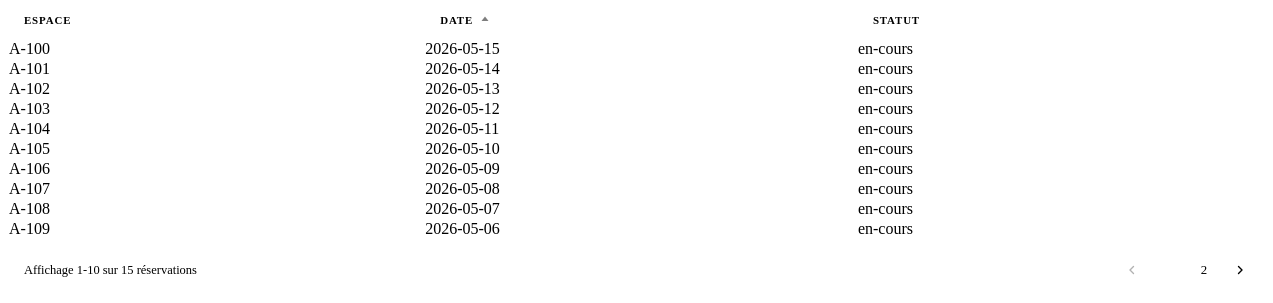
Scenario: WsbDataTable — pagination › clic sur page suivante affiche la page 2
What coordinates should you click on to do the following:
click the button named "Page suivante"
I would click on:
 (1240, 270)
Its box is [1224,254,1256,286].
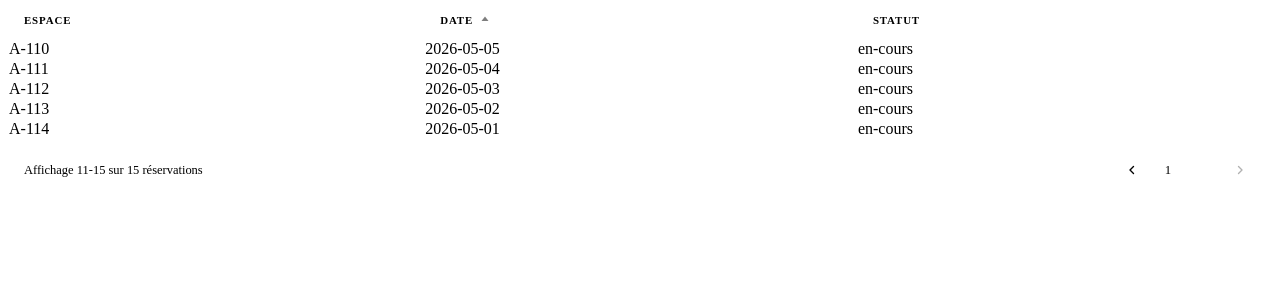
Now the text "Affichage 11-15 sur 15 réservations" is shown, box [24,162,203,178]
